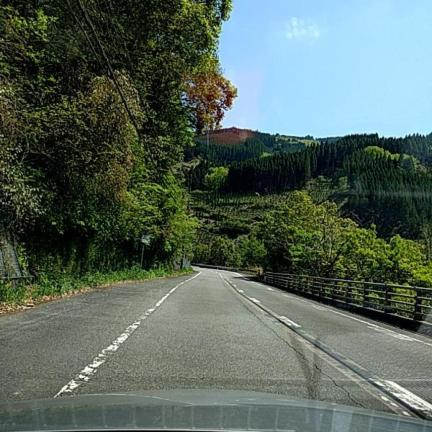Road: (0, 269, 431, 414)
